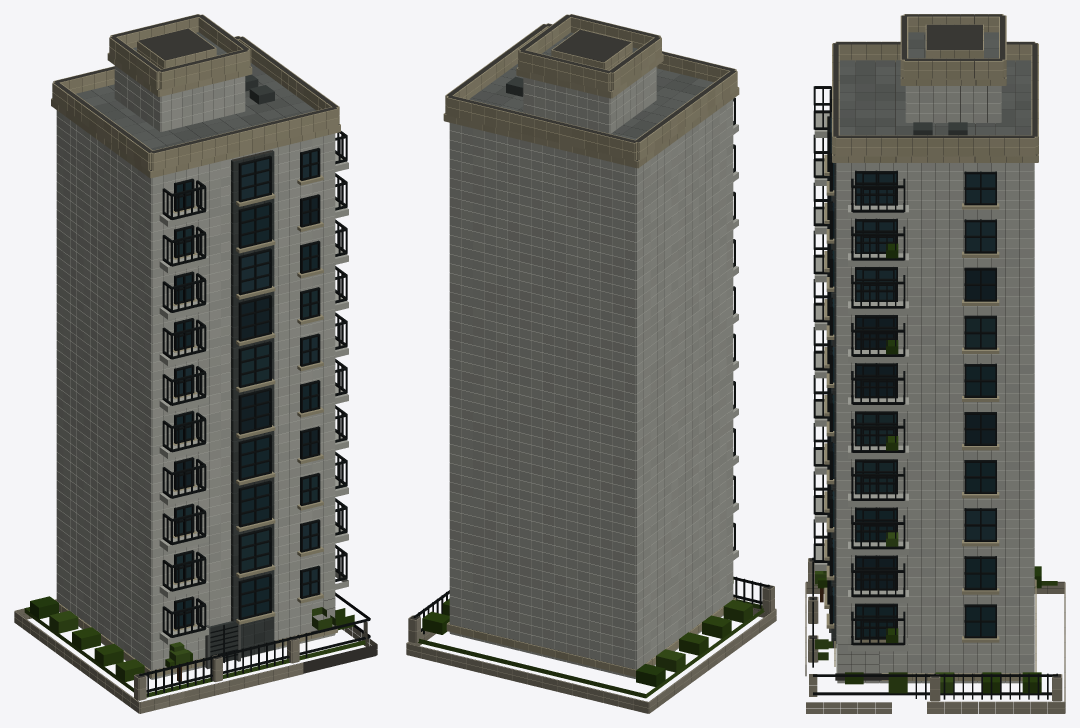
The model's file is SM_StreetFrontage_069.fbx.
3 views of the same model, side by side, from view 1: azimuth 30°, elevation 25°; view 2: azimuth 150°, elevation 25°; view 3: azimuth 270°, elevation 25° (orthographic). The views are drawn at different scales.
Visible parts, largest first — view 1: SM_StreetFrontage_069; view 2: SM_StreetFrontage_069; view 3: SM_StreetFrontage_069.
Part boxes in pixels (x1,y1,x2,y2): SM_StreetFrontage_069: (14, 14, 377, 713); SM_StreetFrontage_069: (406, 14, 776, 713); SM_StreetFrontage_069: (805, 14, 1065, 713).
Bounding box in the file's own units: 14 × 12.78 × 33.13.
